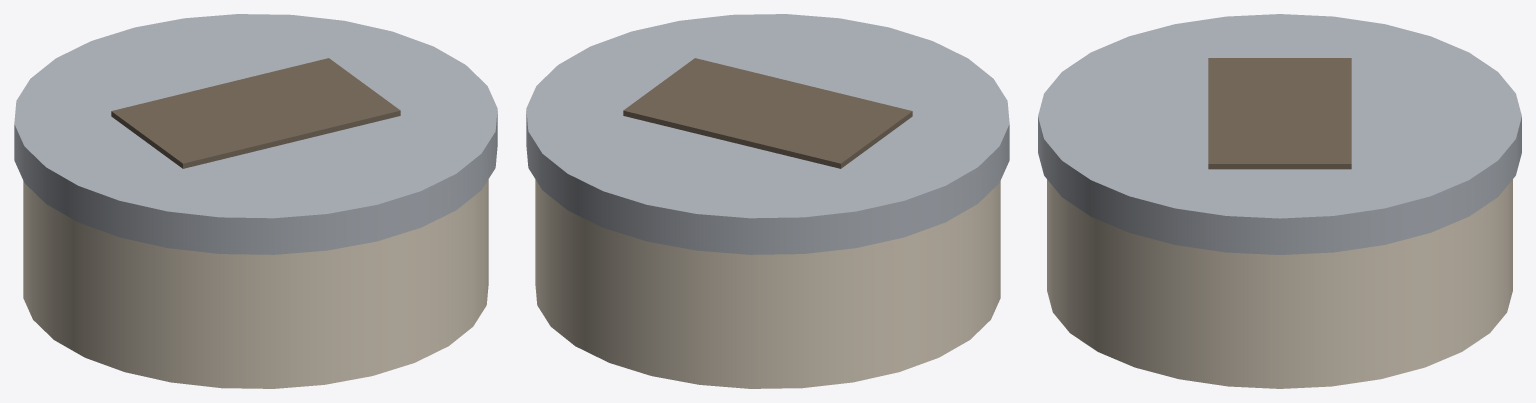
The model's file is SV_MP_SKU_05_v01.glb.
3 views of the same model, side by side, from view 1: azimuth 30°, elevation 25°; view 2: azimuth 150°, elevation 25°; view 3: azimuth 270°, elevation 25° (orthographic).
Visible parts, largest first — view 1: mproto_SV_MP_SKU_05_v01; view 2: mproto_SV_MP_SKU_05_v01; view 3: mproto_SV_MP_SKU_05_v01.
Boxes of the visible parts, box(x1,y1,x2,y2) form: mproto_SV_MP_SKU_05_v01: box(14, 14, 497, 388); mproto_SV_MP_SKU_05_v01: box(526, 14, 1009, 388); mproto_SV_MP_SKU_05_v01: box(1038, 14, 1521, 388).
Bounding box in the file's own units: 0.054 × 0.0221 × 0.054.
